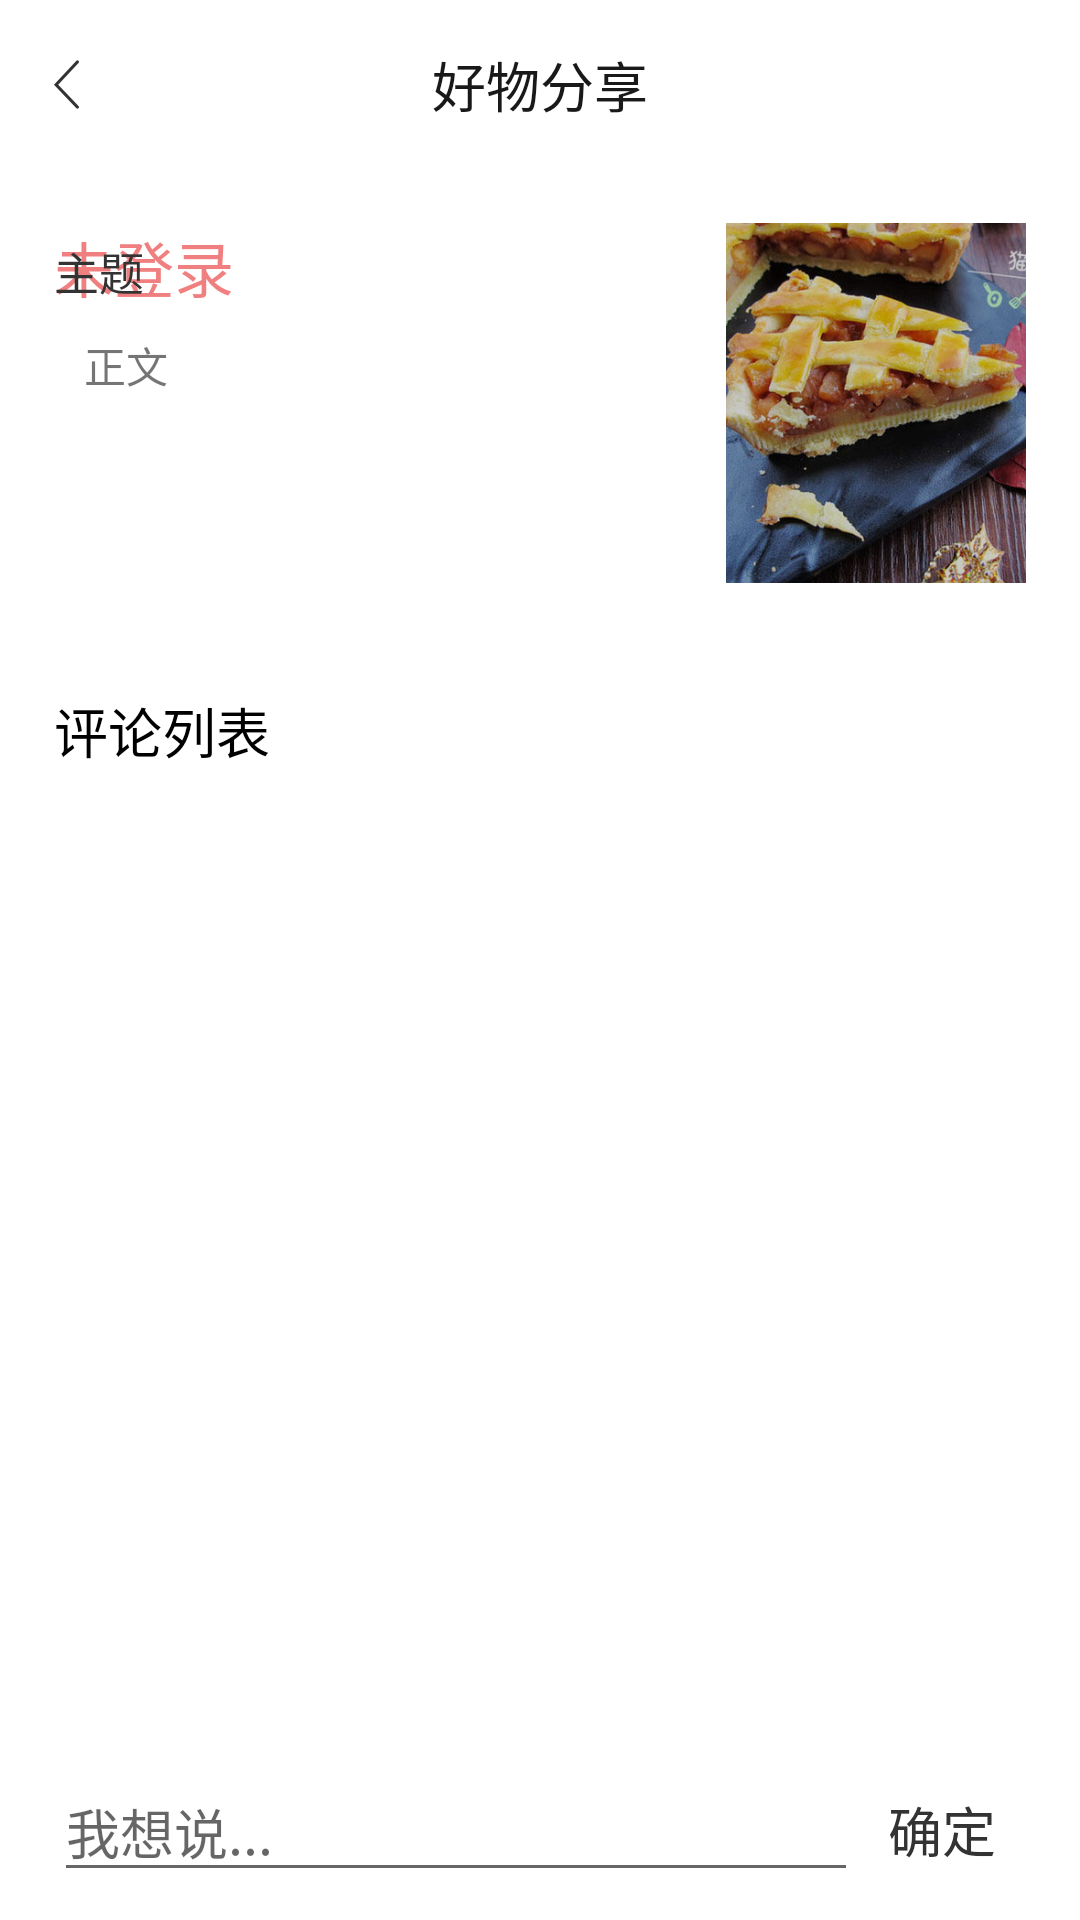

Where to tap for icons on this 1080w x 1920h app screen, as point (x, y):
back: point (66, 84)
